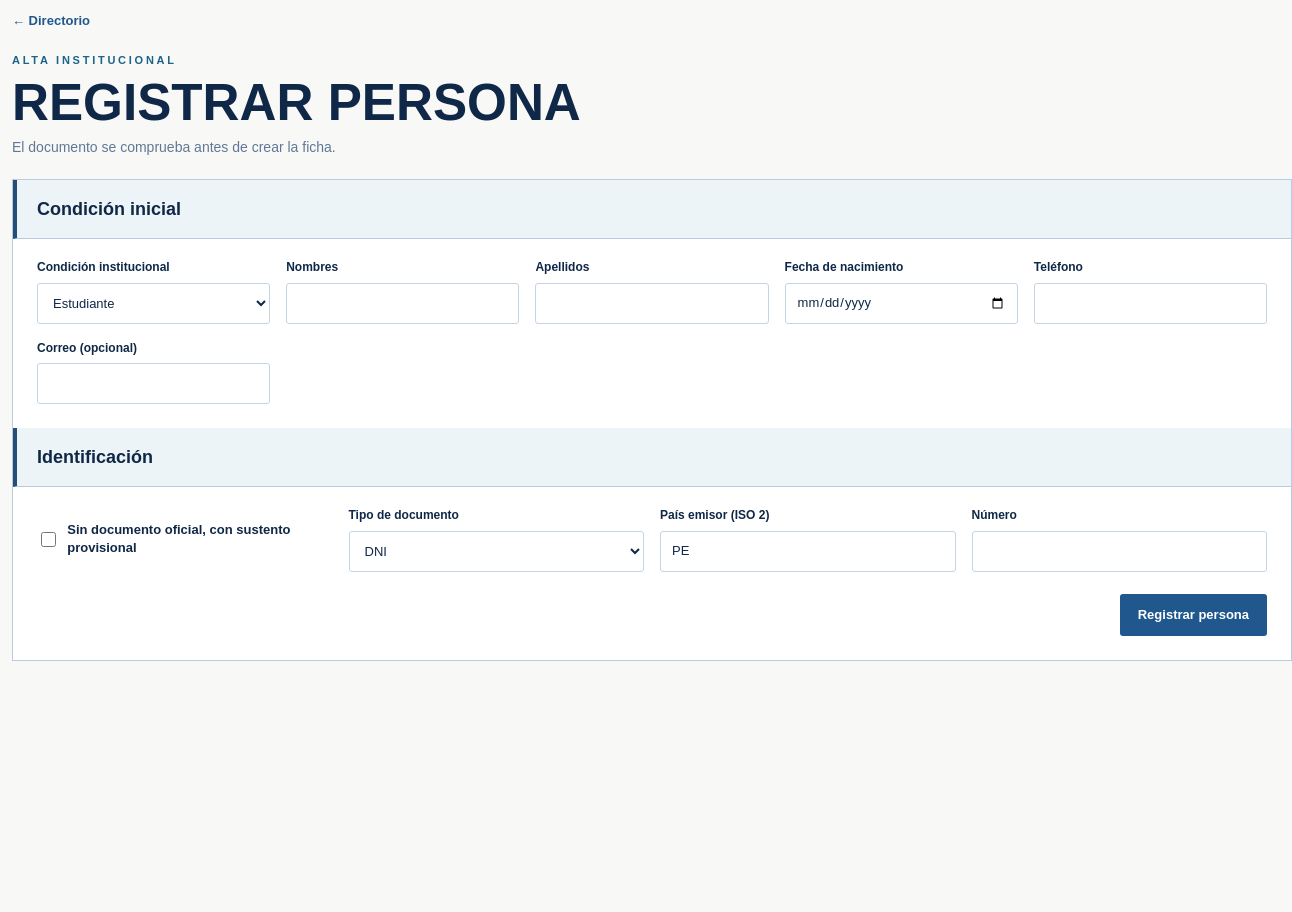
Scenario: Personas ERP Web › muestra identificación provisional solo para estudiante y filtra apoderado sin facultad
Click the checkbox labelled "Sin documento oficial, con sustento provisional".
click(49, 539)  # box 41,531 -> 56,548
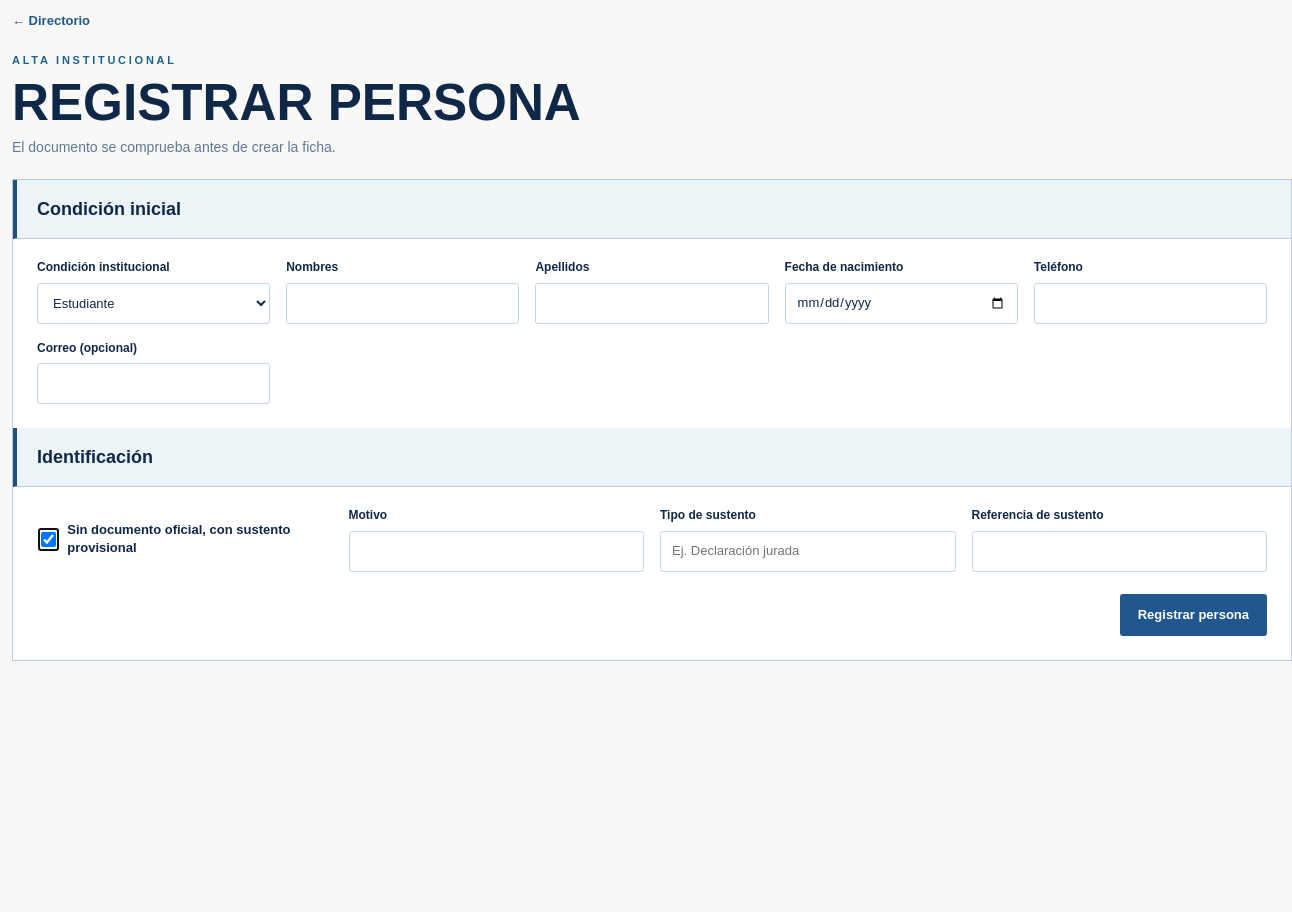
Expected: the field labelled "Referencia de sustento" is shown, 972,531 -> 1267,572
Select "Docente" in the dropdown labelled "Condición institucional" at (154, 303), box 37,283 -> 270,324
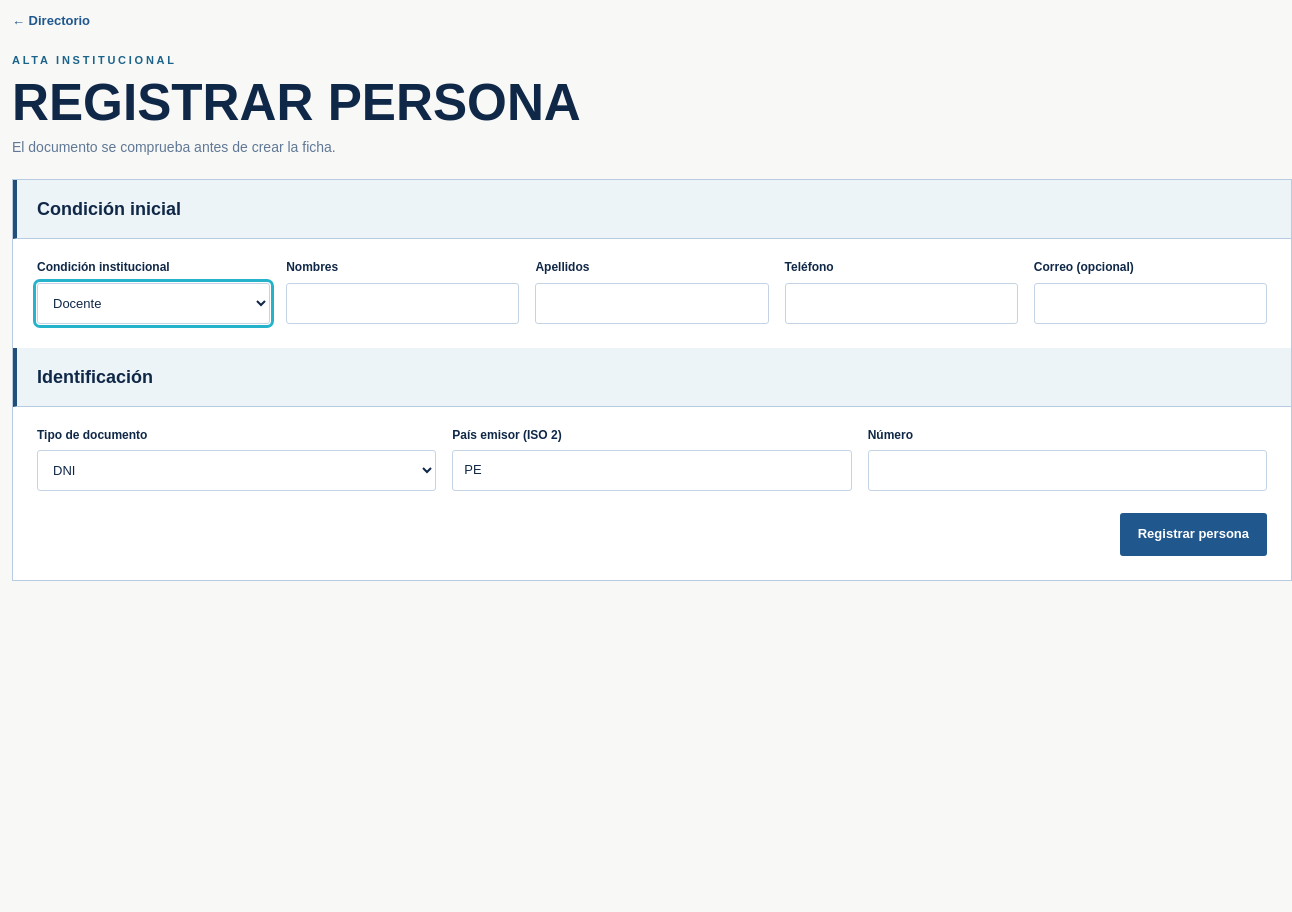
Expected: the label "Sin documento oficial" is gone
